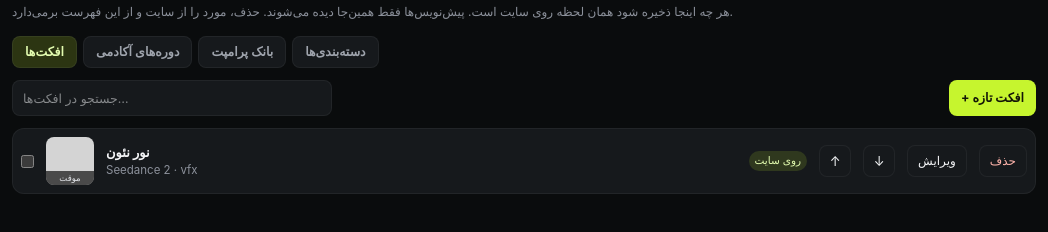
Test case: the shelves › says how many items are in the way when one cannot be deleted
The image size is (1048, 232).
Click the tab "دسته‌بندی‌ها" at (335, 52), box [292,36,379,68]
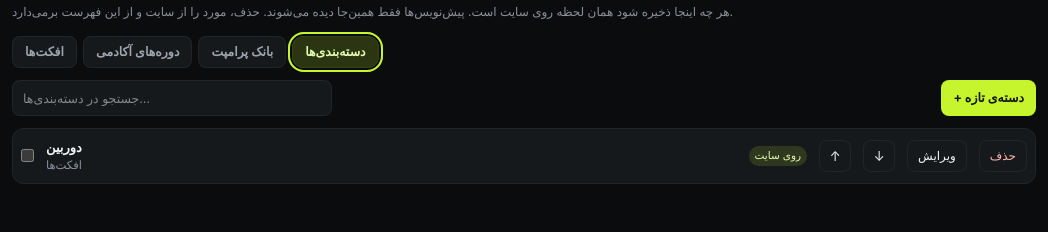
Click the button with aria-label "حذف دوربین" at (1003, 156), box [979,140,1027,172]
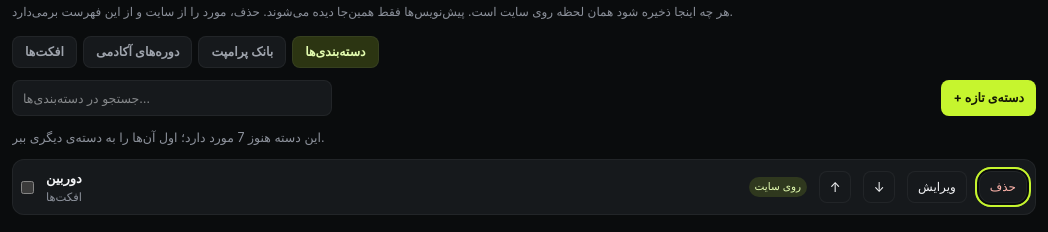
Now the text "این دسته هنوز 7 مورد دارد؛ اول آن‌ها را به دسته‌ی دیگری ببر." is shown, box [12,130,324,145]
